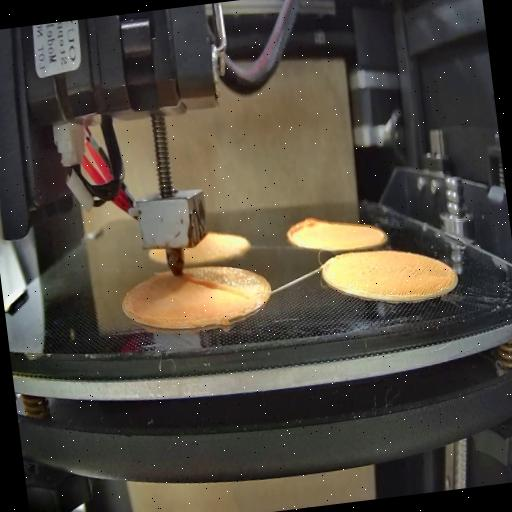over_extrusion: (182, 262, 252, 309), (283, 212, 328, 252)
